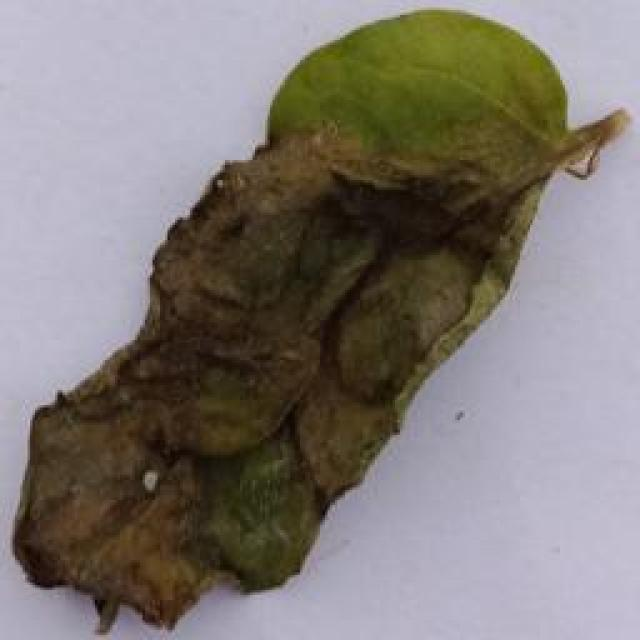Potato_Late_Blight: (19, 10, 622, 636)
